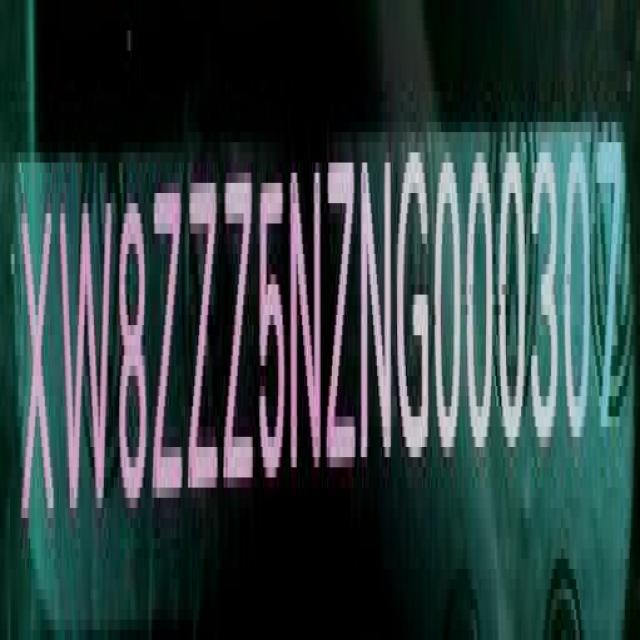0: (498, 131, 530, 451), (464, 124, 494, 458), (433, 136, 463, 463), (563, 121, 592, 450)
3: (530, 147, 561, 463)
5: (260, 154, 287, 494)
7: (596, 117, 626, 459)
8: (119, 191, 149, 519)
G: (398, 137, 432, 467)
N: (288, 136, 326, 489), (364, 137, 396, 474)
W: (59, 187, 111, 529)
X: (19, 193, 55, 536)
Z: (222, 158, 255, 505), (190, 158, 222, 510), (327, 146, 358, 484), (154, 182, 184, 516)
